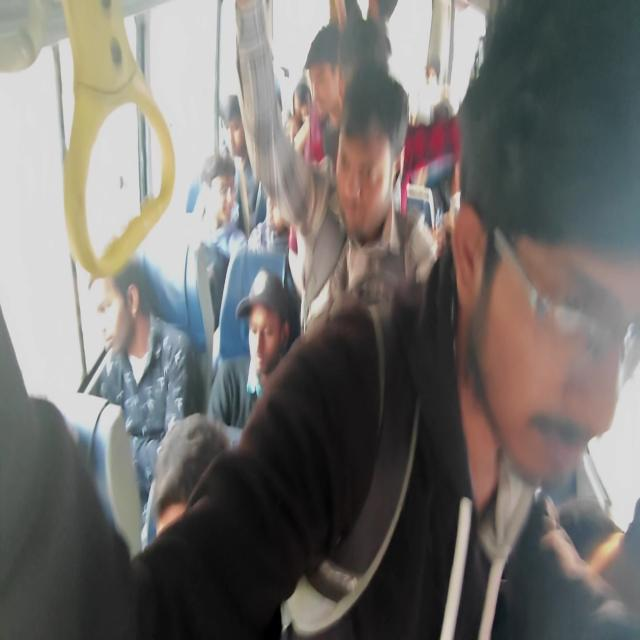person: (459, 1, 640, 530), (346, 102, 423, 269), (160, 418, 233, 580), (240, 283, 284, 382), (80, 262, 140, 334), (344, 34, 410, 94), (312, 49, 358, 129), (428, 91, 453, 196), (218, 100, 250, 171), (193, 168, 229, 213), (426, 57, 456, 106), (293, 87, 317, 126), (284, 117, 306, 158)
